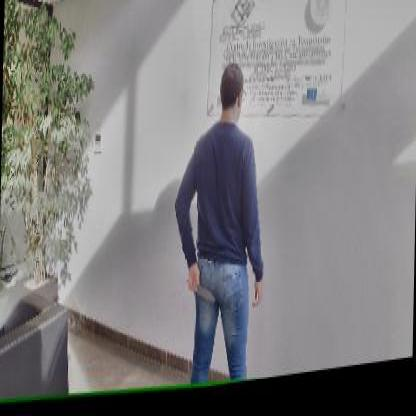knife: (184, 275, 216, 314)
